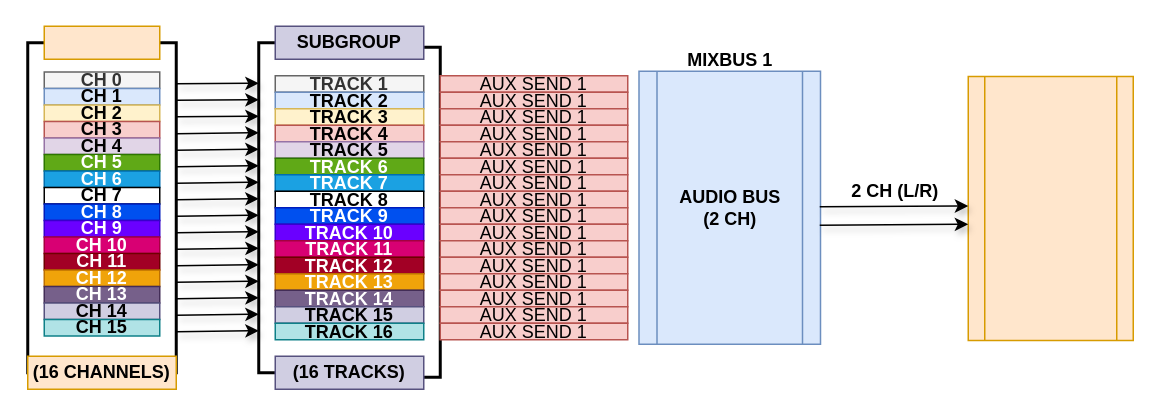
This 1160x416 diagram has some shape labels left out. The centre of each missing label's shape, as x and y in pixels:
"MASTER BUS" goes at (x=1050, y=207).
"TRACK" goes at (x=101, y=42).
